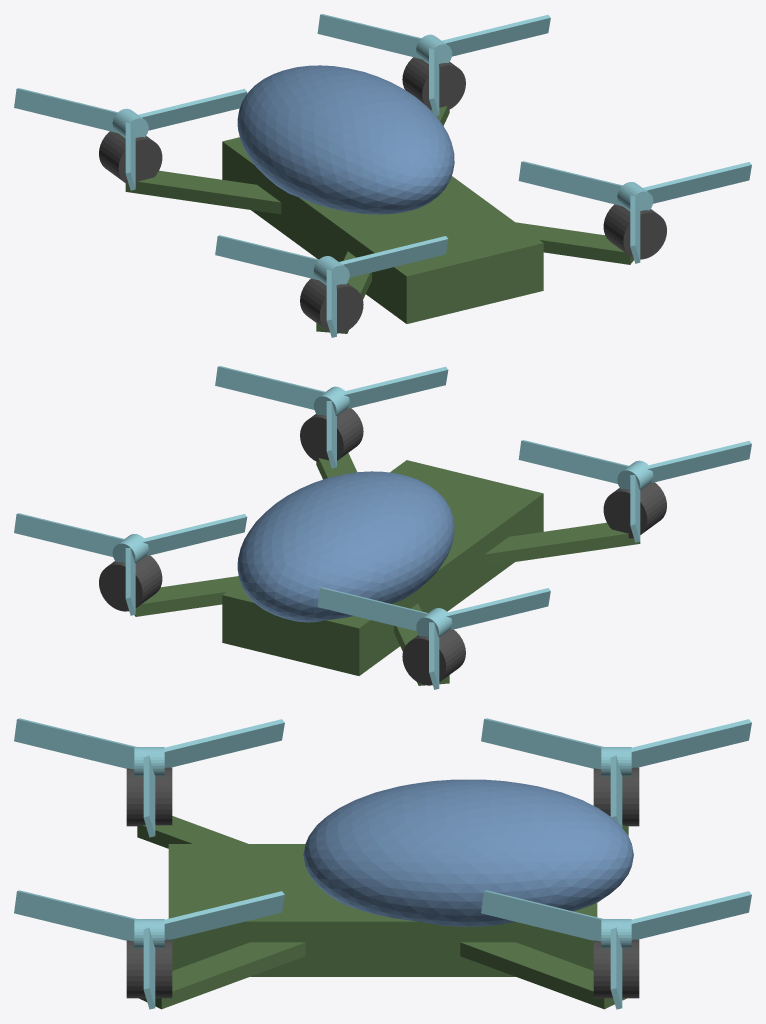
File: Arch Angle Blue.glb
The picture shows the model from 3 angles, top to bottom: view 1: azimuth 30°, elevation 25°; view 2: azimuth 150°, elevation 25°; view 3: azimuth 270°, elevation 25°; orthographic projection. The views are drawn at different scales.
Visible parts, largest first — view 1: canopy, frame_body, prop_0, prop_1, prop_2, prop_3, arm_3, arm_0, motor_0, motor_2, motor_3, motor_1; view 2: canopy, frame_body, prop_3, prop_2, prop_0, prop_1, arm_2, arm_1, motor_1, motor_3, motor_2, motor_0 (+1 smaller); view 3: canopy, frame_body, prop_1, prop_2, prop_0, prop_3, arm_1, arm_0, motor_0, motor_1, motor_2, motor_3 (+1 smaller).
Boxes of the visible parts, x1=… form: canopy: x1=237, y1=65, x2=454, y2=214; frame_body: x1=222, y1=137, x2=543, y2=323; prop_0: x1=518, y1=161, x2=751, y2=263; prop_1: x1=317, y1=14, x2=550, y2=115; prop_2: x1=215, y1=235, x2=448, y2=337; prop_3: x1=14, y1=88, x2=247, y2=190; arm_3: x1=125, y1=170, x2=281, y2=214; arm_0: x1=516, y1=222, x2=633, y2=264; motor_0: x1=603, y1=204, x2=666, y2=259; motor_2: x1=300, y1=278, x2=363, y2=333; motor_3: x1=99, y1=131, x2=162, y2=186; motor_1: x1=402, y1=57, x2=465, y2=110; canopy: x1=237, y1=471, x2=454, y2=622; frame_body: x1=222, y1=460, x2=543, y2=675; prop_3: x1=317, y1=587, x2=550, y2=689; prop_2: x1=518, y1=440, x2=751, y2=542; prop_0: x1=215, y1=366, x2=448, y2=468; prop_1: x1=14, y1=513, x2=247, y2=615; arm_2: x1=484, y1=522, x2=640, y2=566; arm_1: x1=134, y1=576, x2=240, y2=616; motor_1: x1=99, y1=555, x2=162, y2=611; motor_3: x1=402, y1=629, x2=465, y2=685; motor_2: x1=603, y1=482, x2=666, y2=538; motor_0: x1=300, y1=408, x2=363, y2=462; canopy: x1=303, y1=779, x2=633, y2=926; frame_body: x1=168, y1=844, x2=597, y2=976; prop_1: x1=481, y1=890, x2=751, y2=1009; prop_2: x1=14, y1=718, x2=284, y2=837; prop_0: x1=14, y1=890, x2=284, y2=1009; prop_3: x1=481, y1=718, x2=751, y2=827; arm_1: x1=460, y1=942, x2=626, y2=1009; arm_0: x1=139, y1=942, x2=305, y2=1009; motor_0: x1=126, y1=939, x2=172, y2=998; motor_1: x1=593, y1=939, x2=639, y2=998; motor_2: x1=126, y1=767, x2=172, y2=826; motor_3: x1=593, y1=767, x2=639, y2=826.
Bounding box in the file's own units: 0.2097 × 0.0516 × 0.2411.
